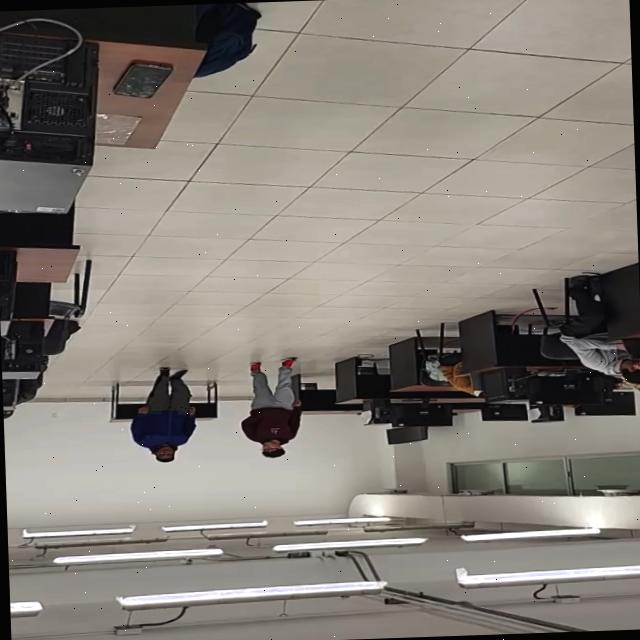Persona: (123, 361, 206, 468), (234, 352, 310, 463)
